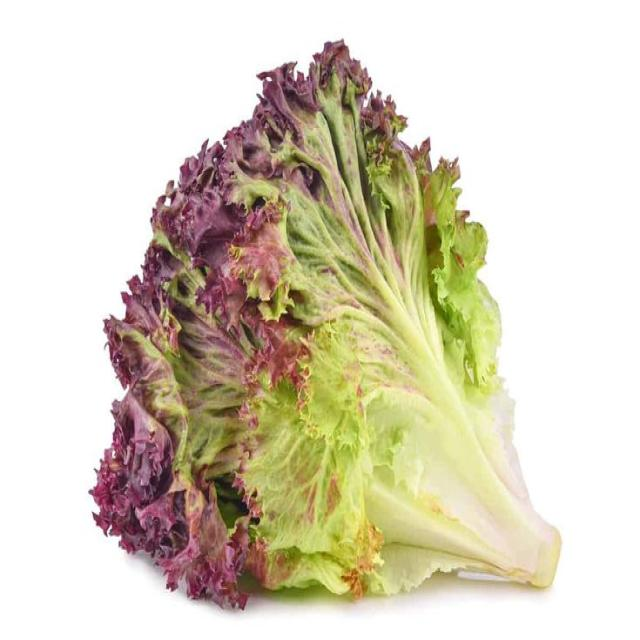lettuce: (93, 42, 559, 606)
